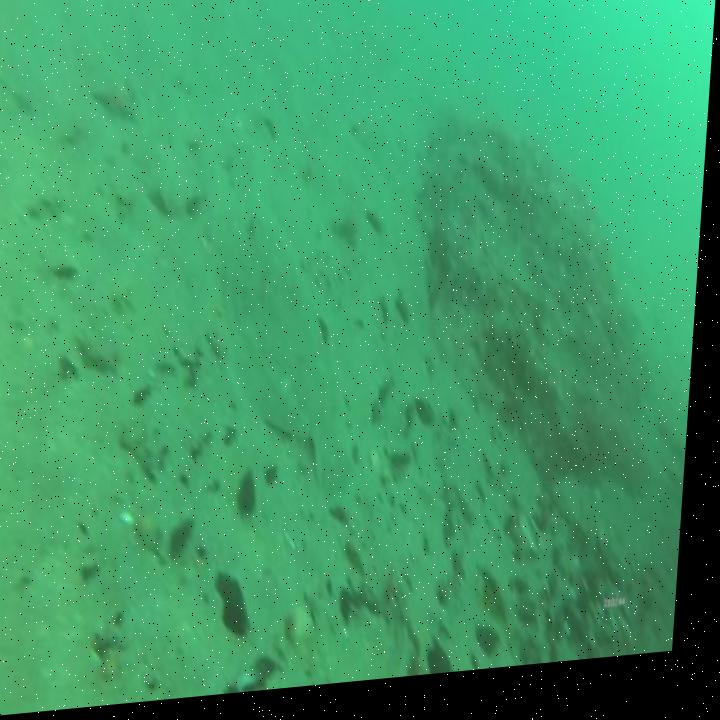starfish: (90, 78, 138, 126)
